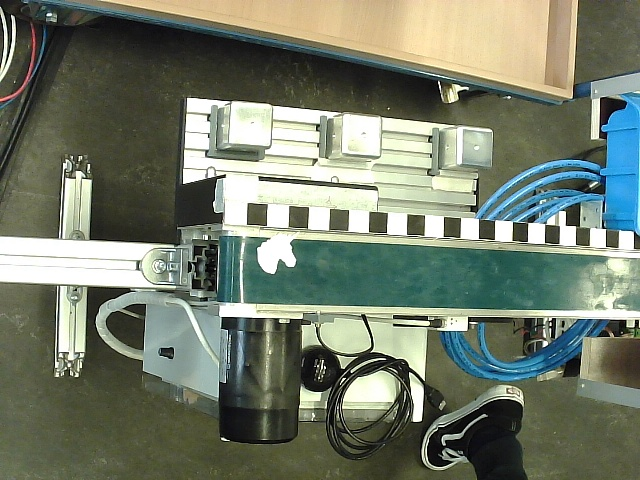unicorn: (256, 232, 300, 275)
